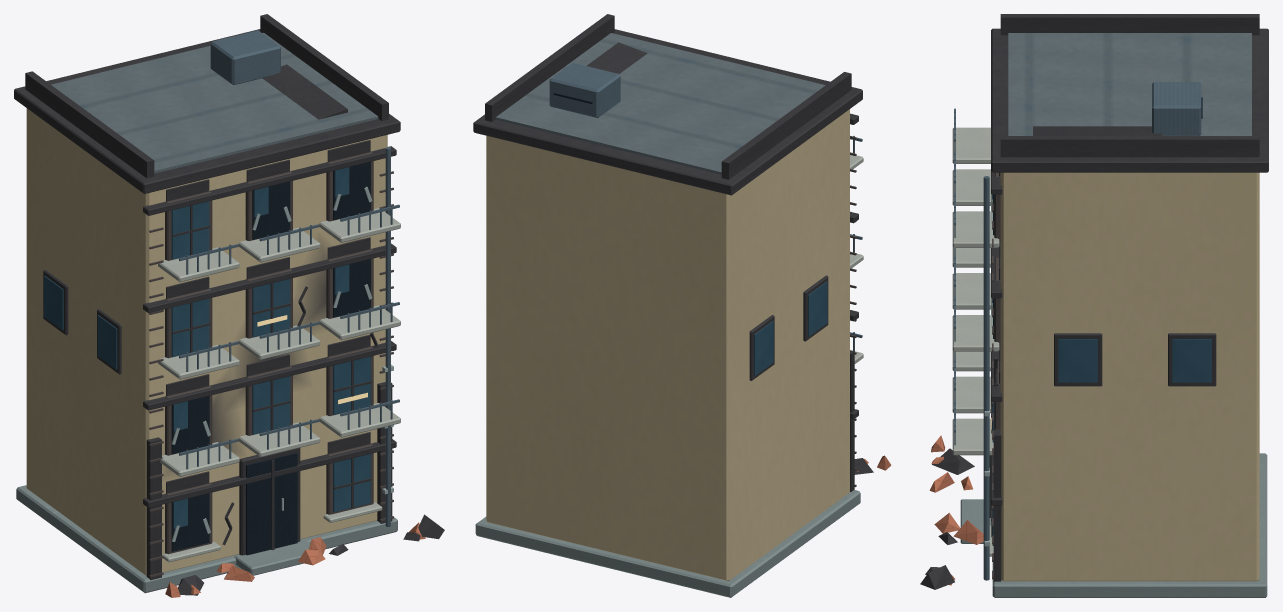
Rendered from apartment-burning.glb.
3 renders of one model, left to right at view 1: azimuth 30°, elevation 25°; view 2: azimuth 150°, elevation 25°; view 3: azimuth 270°, elevation 25°, orthographic. The views are drawn at different scales.
Visible parts, largest first — view 1: apartment-burning; view 2: apartment-burning; view 3: apartment-burning.
Boxes of the visible parts, box(x1,y1,x2,y2) form: apartment-burning: box(14, 14, 444, 597); apartment-burning: box(473, 14, 891, 597); apartment-burning: box(920, 14, 1268, 597).
Size of the model in its own units: 6.13 by 9.41 by 6.33.
5 materials, 5 textured.
